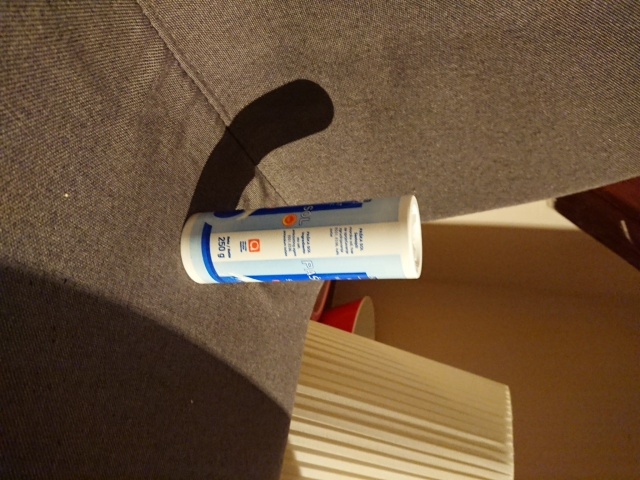Solana Pag Fine Sea Salt 250g: (177, 189, 425, 288)
